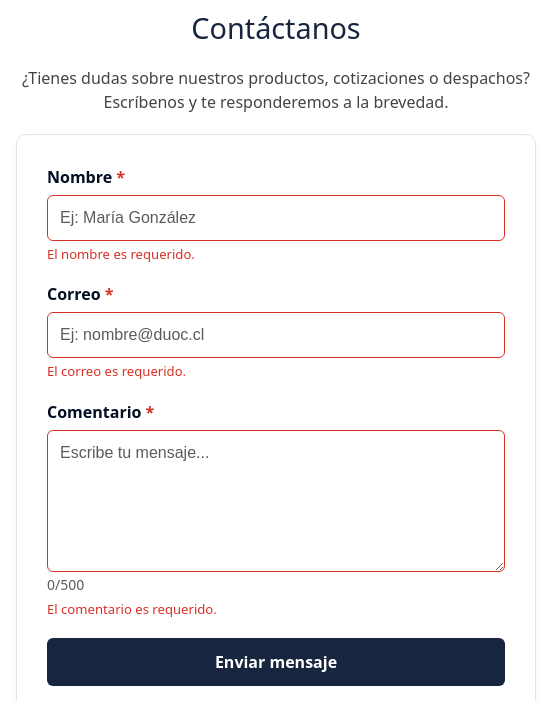
Test 2 - Gestión de estado en el formulario › Contacto actualiza el valor del textarea y el contador de caracteres
Type "Hola, quisiera una cotización." into the text box labelled "Comentario *" at (276, 501), box [47, 430, 505, 572]
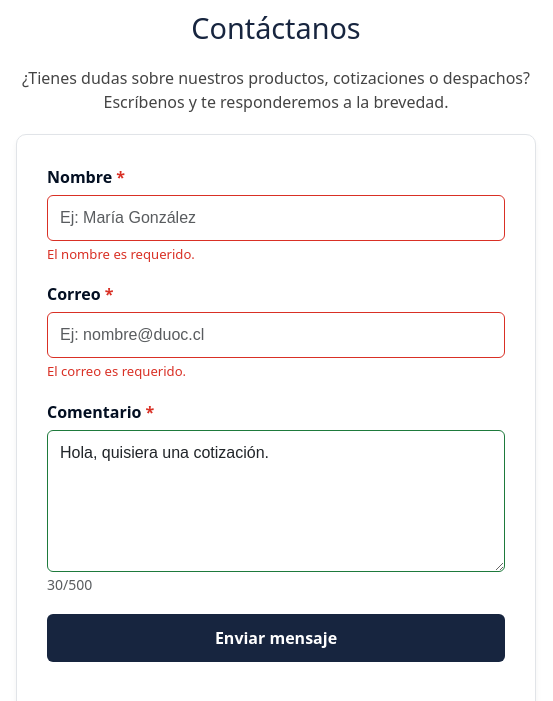
Result: the text "30/500" is shown at [47, 575, 92, 594]
